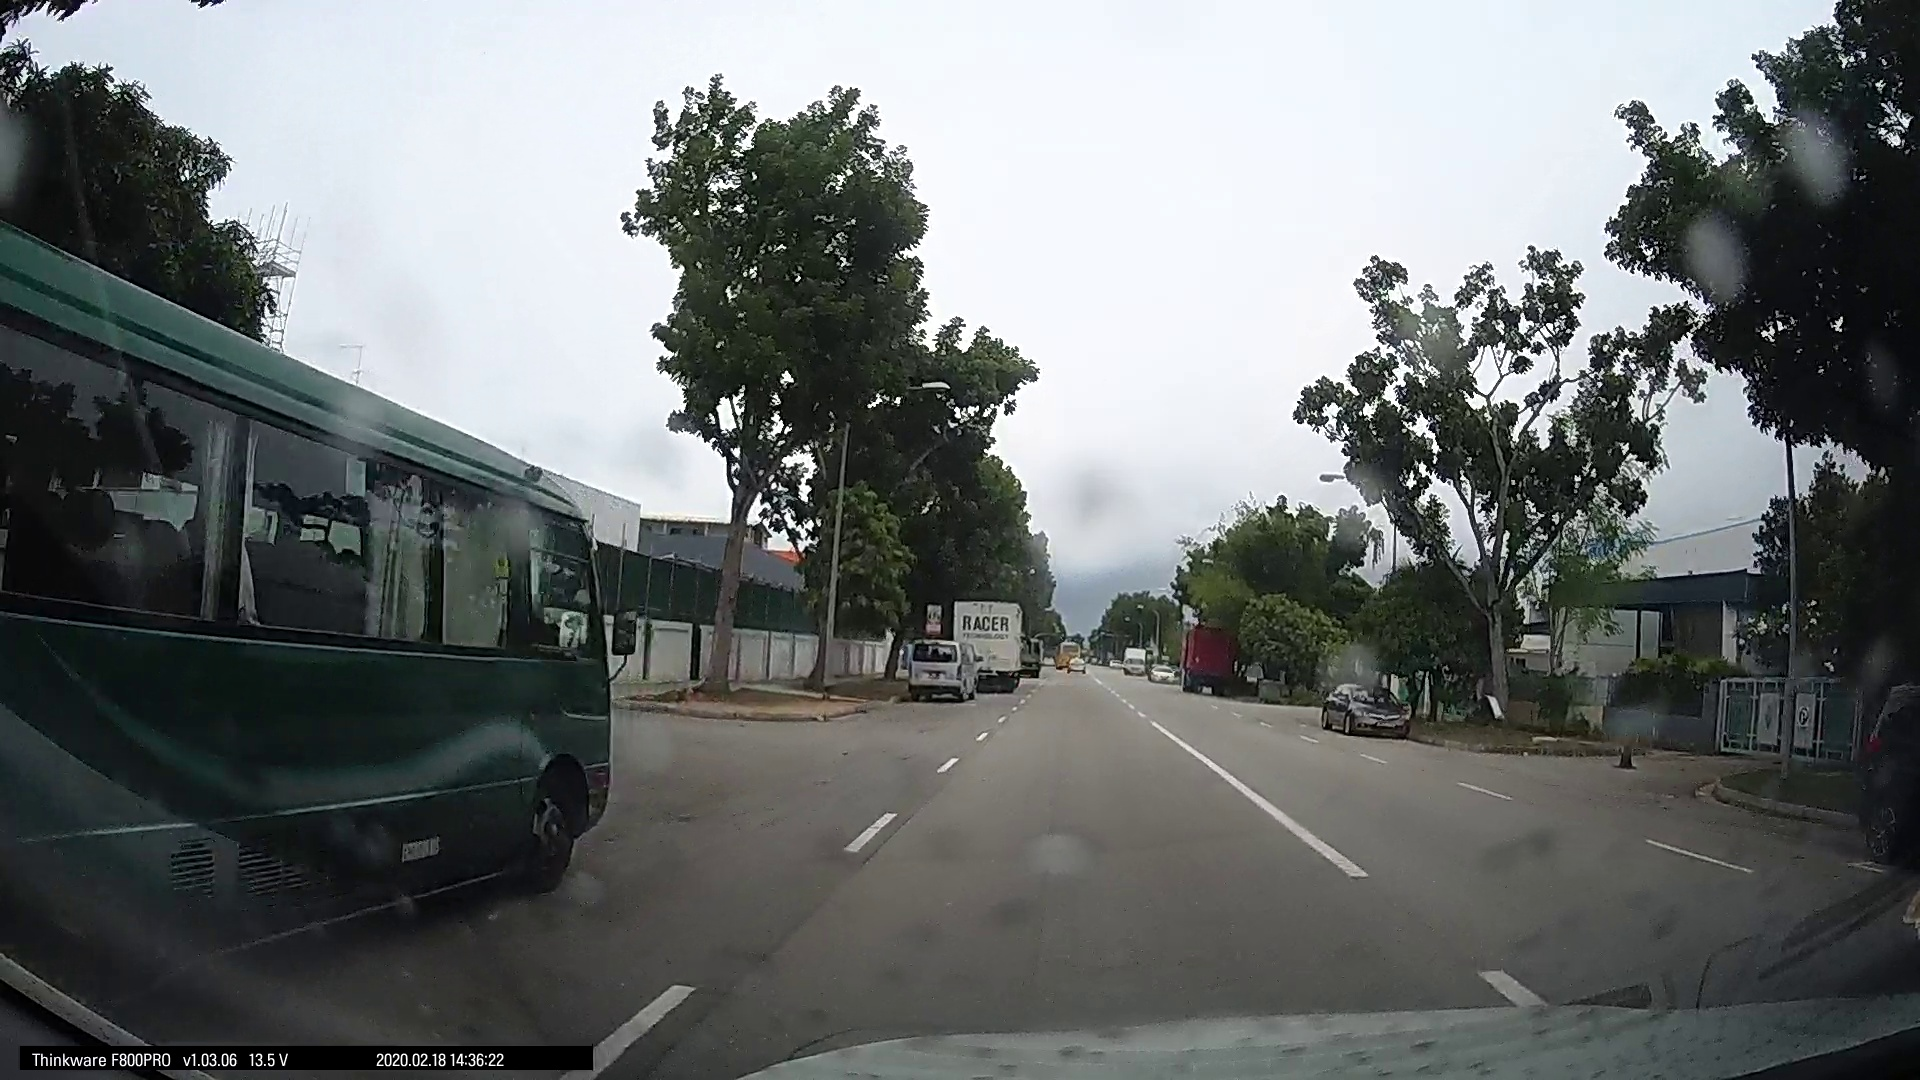Heavy Vehicle: (1292, 542, 1667, 843)
Light Vehicle: (214, 587, 436, 692), (1656, 653, 1813, 771), (1824, 684, 1919, 765), (1, 541, 69, 621)
